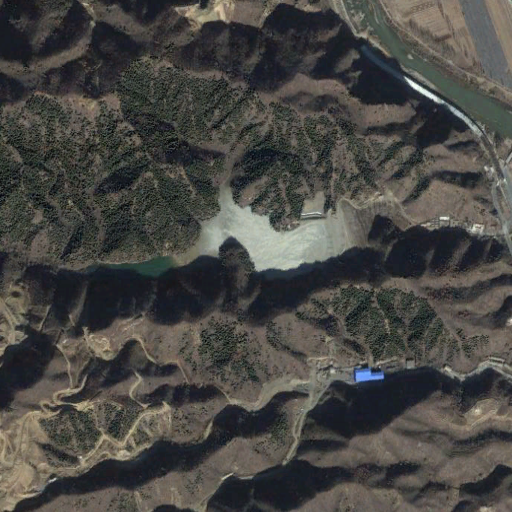tp: (99, 182, 415, 277)
